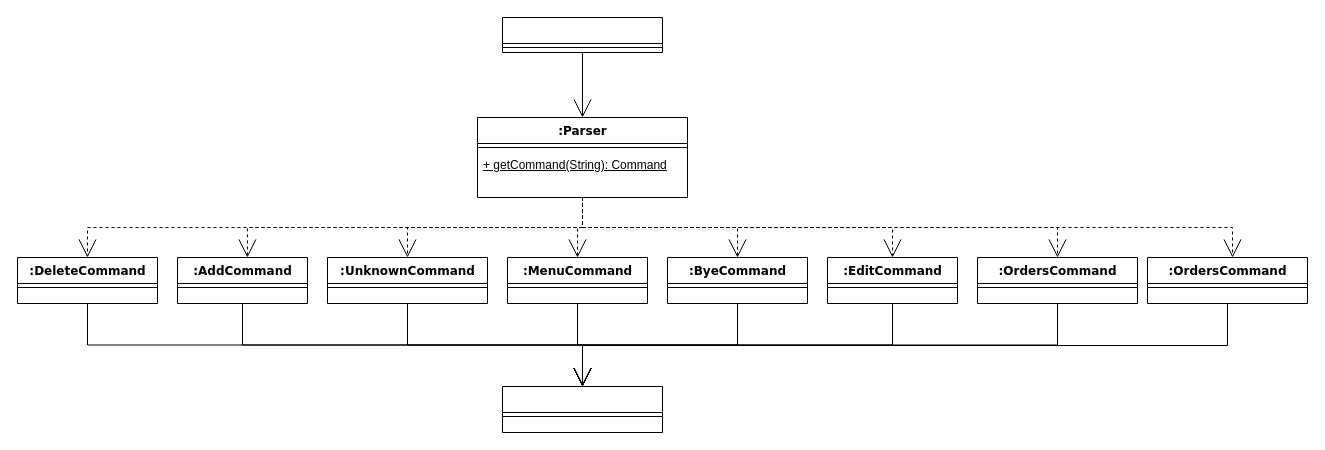
The diagram is 1325 pixels wide and 450 high, and some of its shapes have lost their labels. Here are the shapes that lost their labels. From the top down, the centre of each, then its label:
At pixel 582 34: ":Duke".
At pixel 582 409: ":Command".
